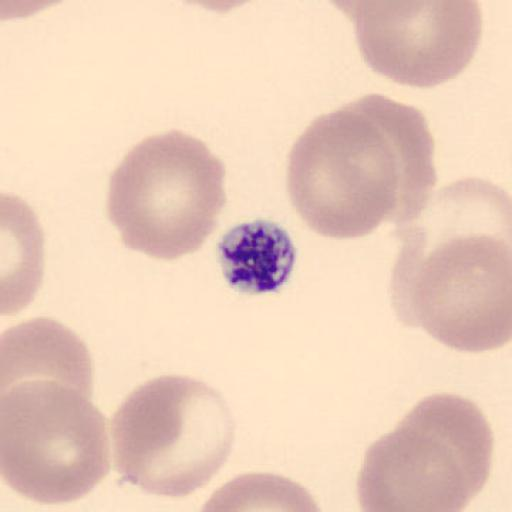Platelet: (215, 216, 300, 296)
RBC: (105, 127, 228, 262), (284, 105, 402, 242), (112, 372, 238, 500), (329, 93, 438, 229), (3, 379, 111, 507), (408, 232, 512, 356), (349, 0, 484, 92), (392, 390, 495, 500), (405, 175, 512, 279), (354, 426, 468, 512), (2, 315, 96, 416), (192, 469, 326, 512), (2, 190, 46, 319), (387, 242, 432, 329), (158, 0, 272, 16), (1, 0, 83, 21)
